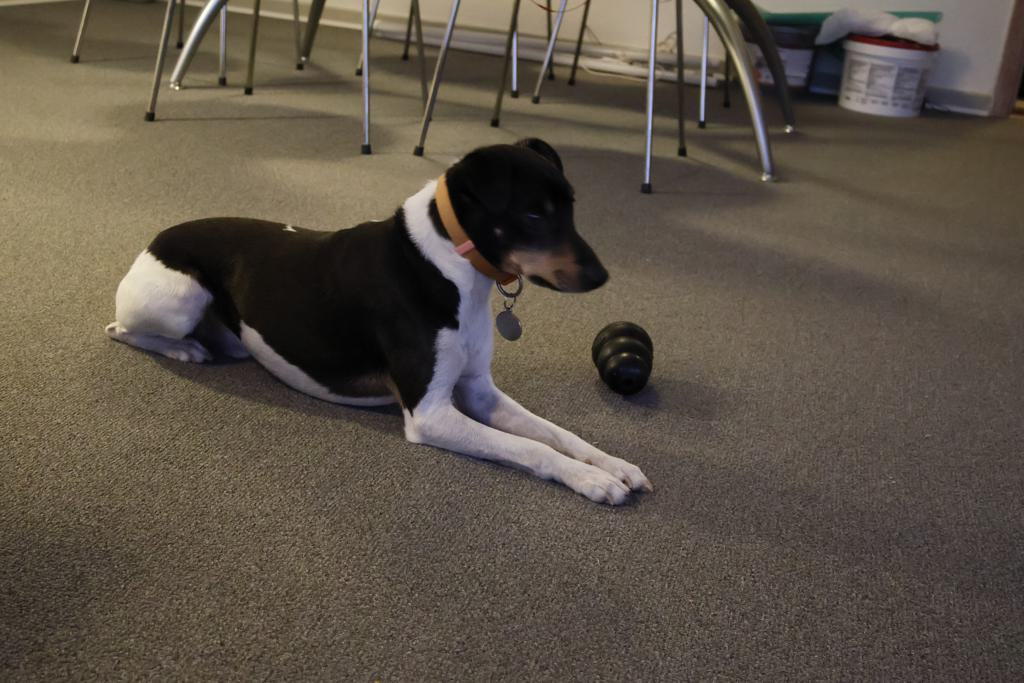Dog: (96, 127, 663, 515)
